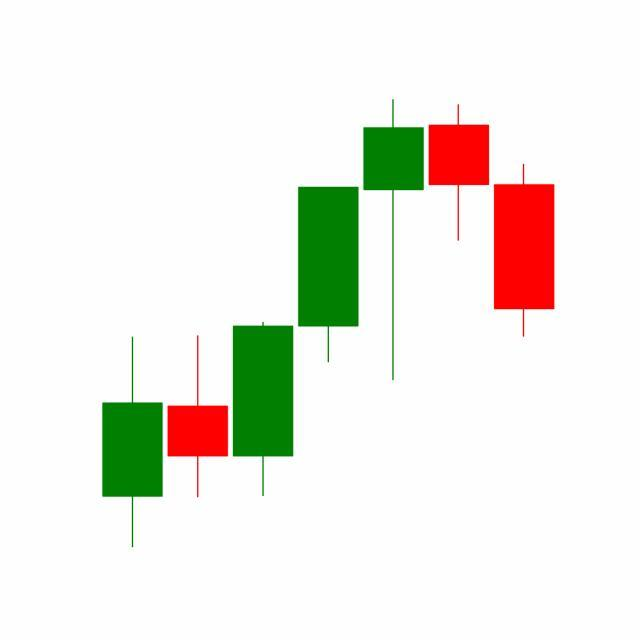Hikkake Pattern: (229, 99, 555, 501)
